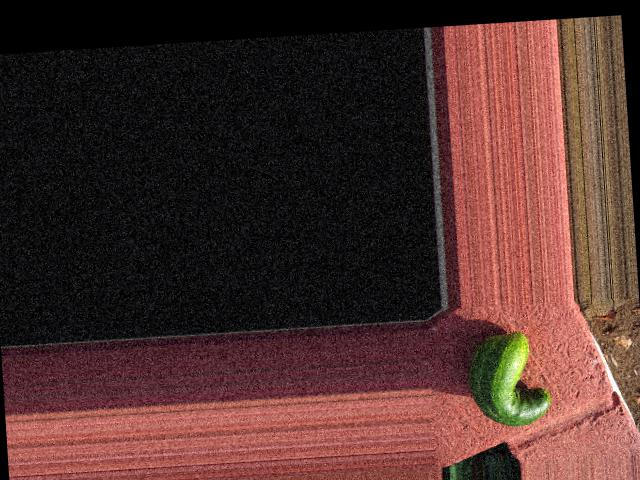cucumber: (467, 330, 553, 428)
